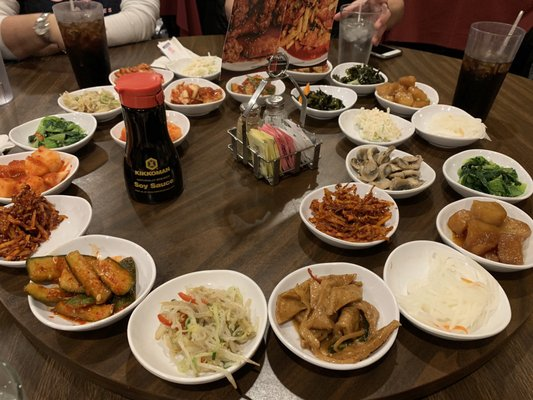sushi: (126, 270, 268, 388), (268, 262, 401, 372), (24, 234, 157, 335), (382, 240, 512, 343), (436, 197, 533, 274), (299, 182, 400, 251), (345, 143, 437, 201), (442, 148, 533, 203), (0, 148, 80, 207), (8, 112, 98, 157), (411, 104, 488, 148), (338, 108, 416, 148), (373, 77, 440, 120), (163, 77, 226, 117), (57, 85, 123, 122), (298, 84, 359, 123), (331, 62, 389, 97), (225, 72, 270, 107)
